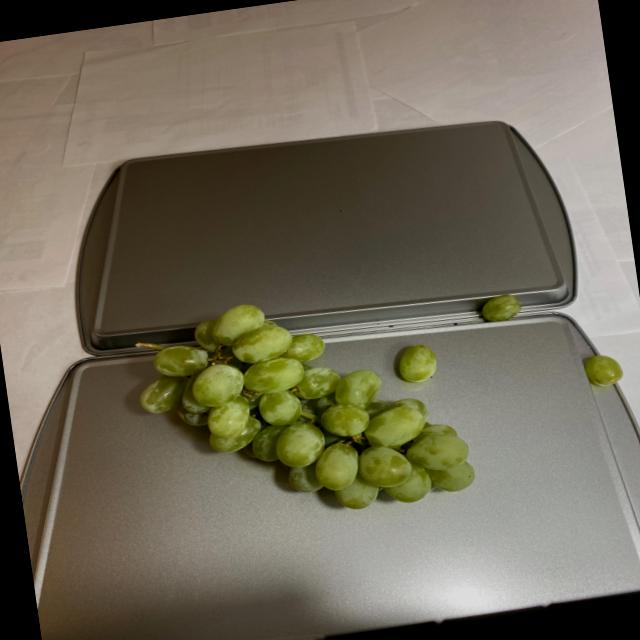grapes: (110, 269, 547, 544), (570, 346, 630, 402)
